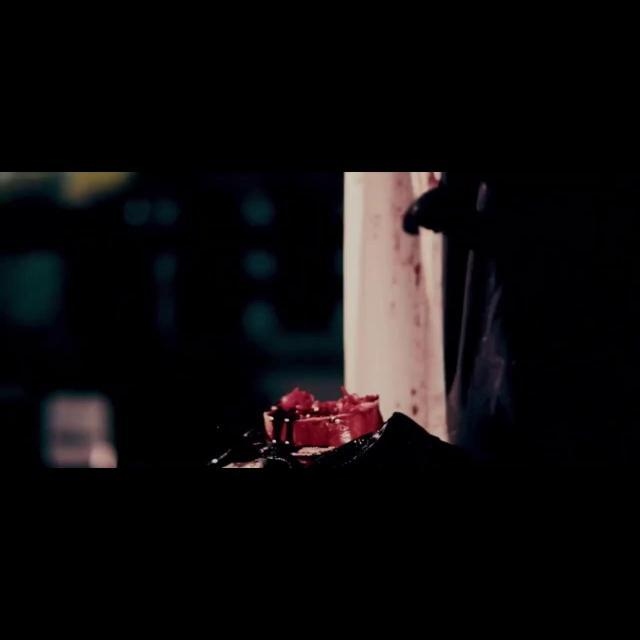blood: (209, 386, 388, 474), (391, 172, 441, 419)
